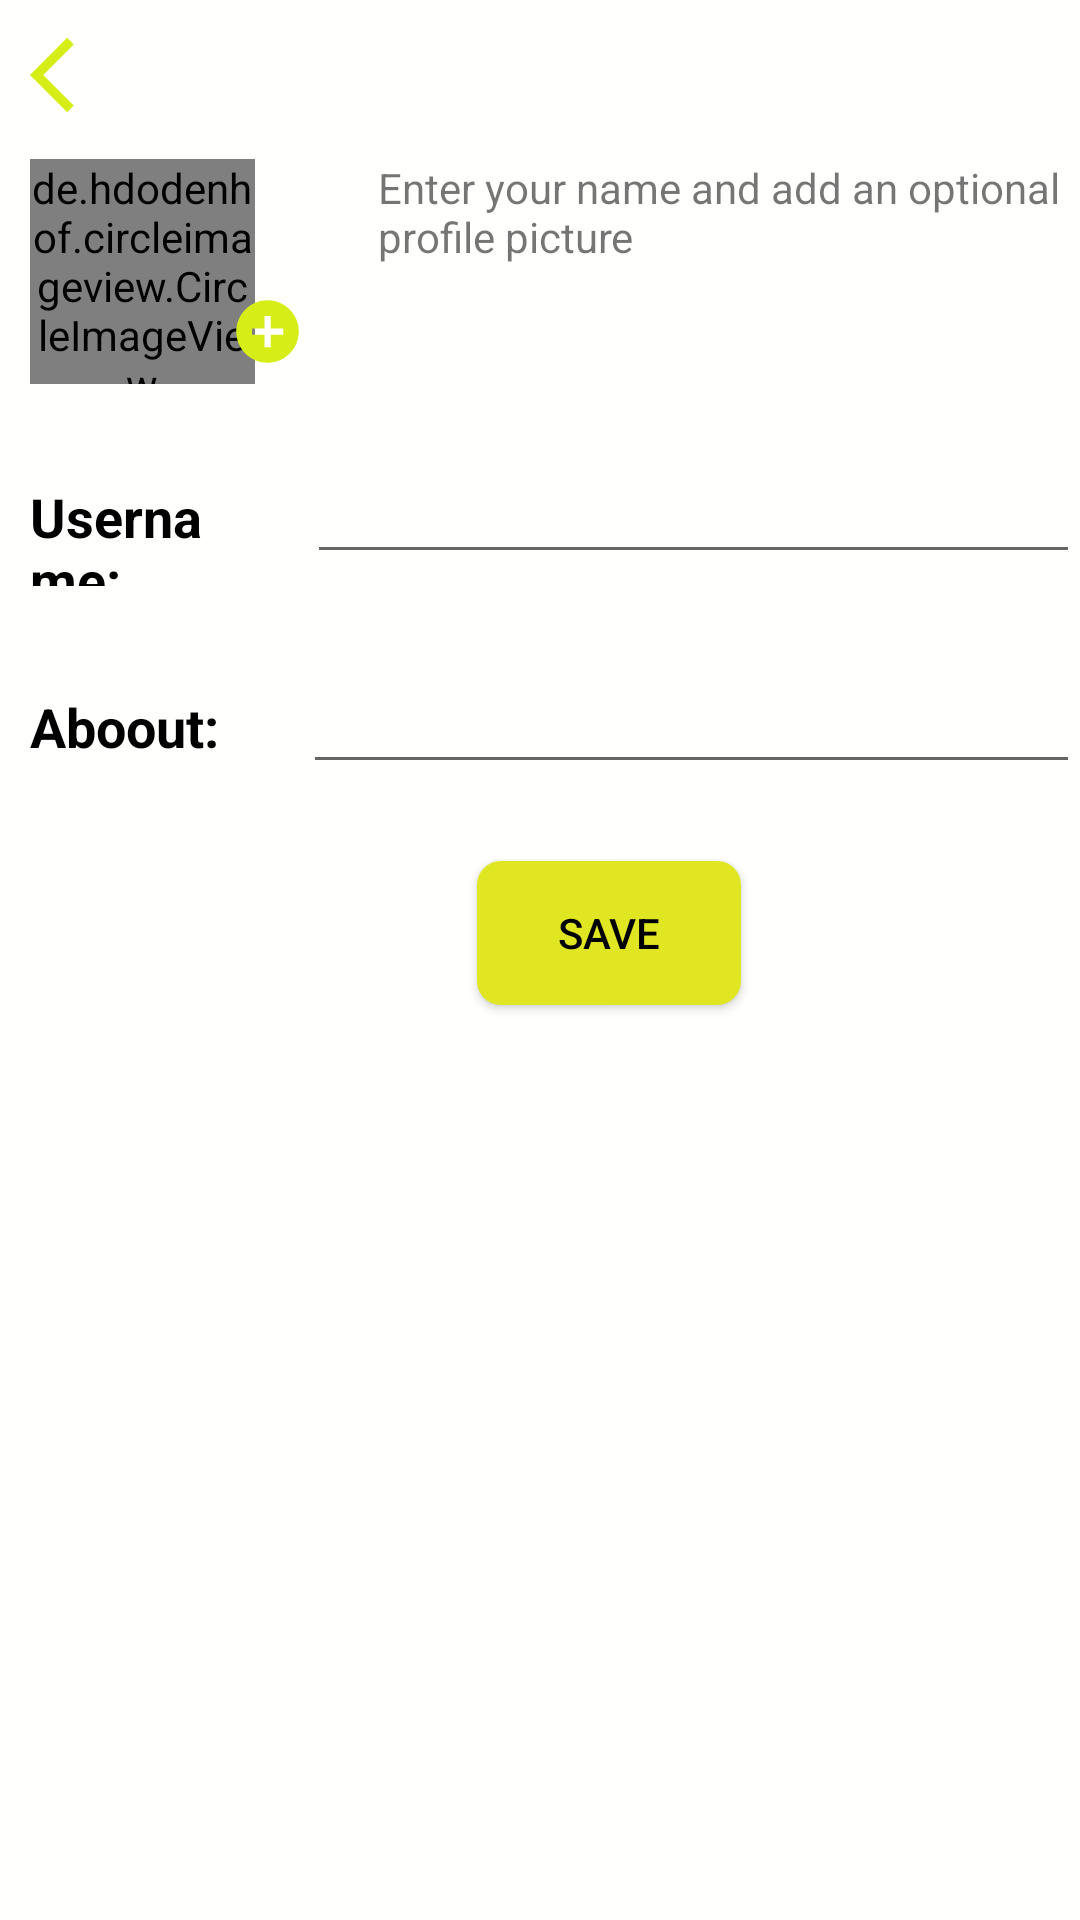

Screen size 1080x1920. Icon name, then its center in pixels as (x=x, y=y):
left arrow: (x=52, y=75)
